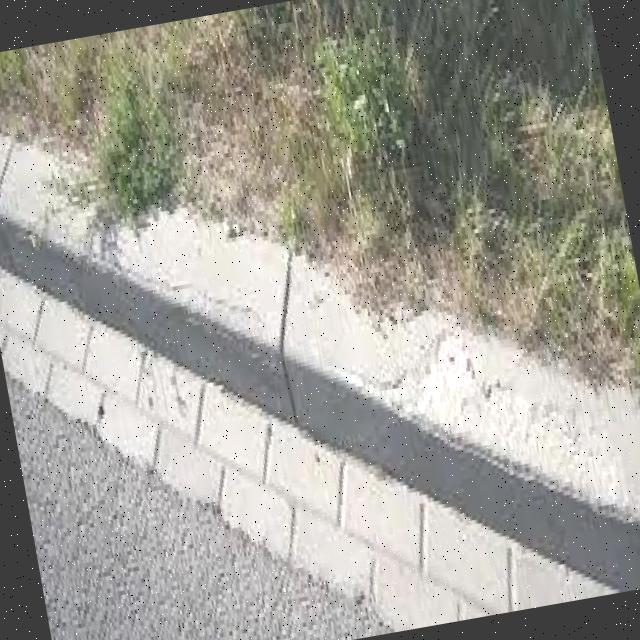curb: (319, 243, 537, 536), (127, 188, 326, 457), (1, 109, 137, 365), (505, 394, 640, 607)
